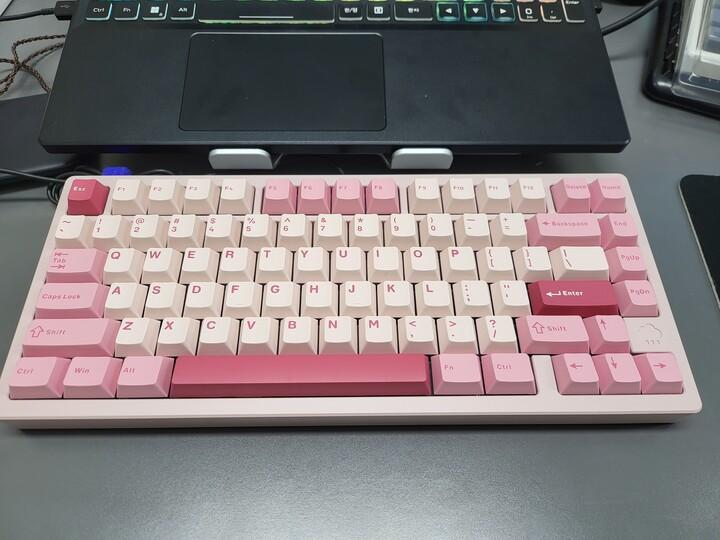keyboard: (0, 171, 702, 429)
